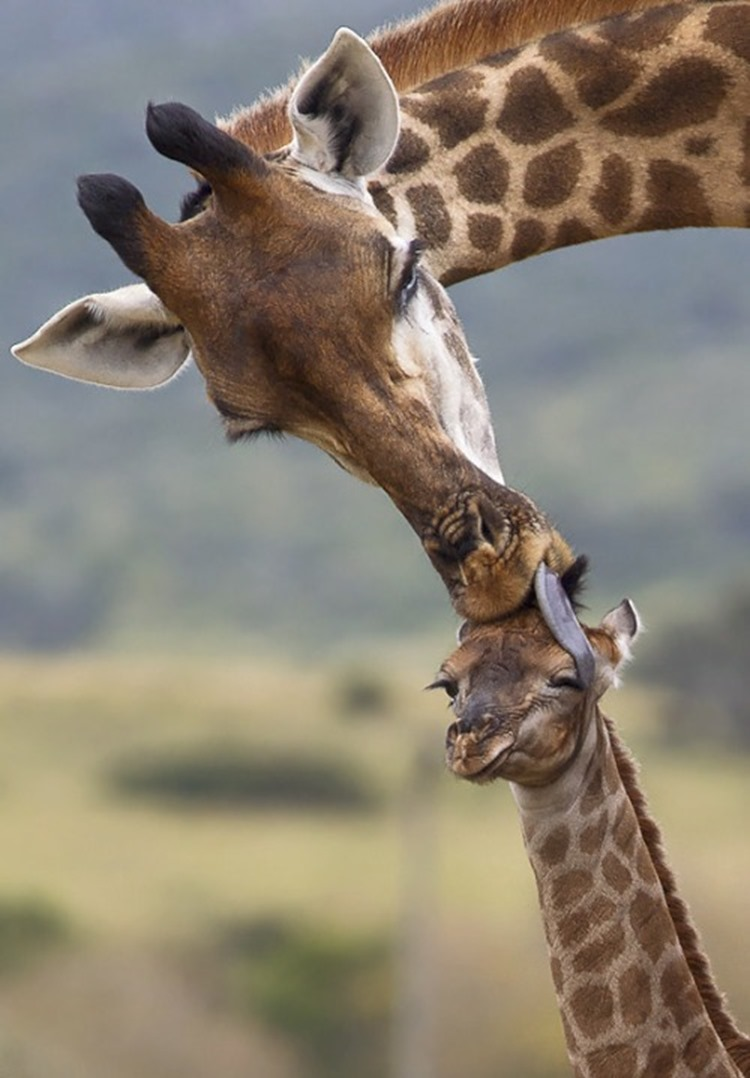Jirafa: (48, 41, 609, 602), (414, 609, 650, 845)
